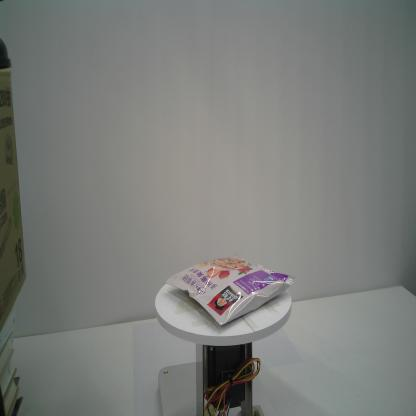Instant Drink: (164, 253, 296, 326)
